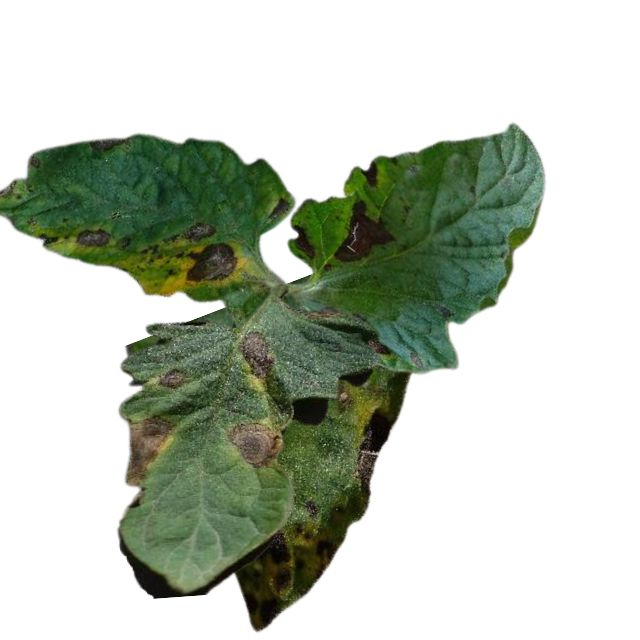Early_blight: (332, 199, 396, 261), (122, 415, 177, 485), (239, 569, 293, 632), (354, 408, 392, 496), (177, 243, 238, 287), (229, 421, 282, 470), (237, 329, 276, 380), (266, 528, 291, 565), (314, 540, 336, 581), (289, 224, 314, 258), (76, 227, 111, 249), (182, 221, 218, 241), (296, 305, 341, 321), (159, 366, 187, 391), (363, 333, 390, 356), (89, 138, 132, 151), (363, 160, 380, 189), (39, 229, 61, 248)
